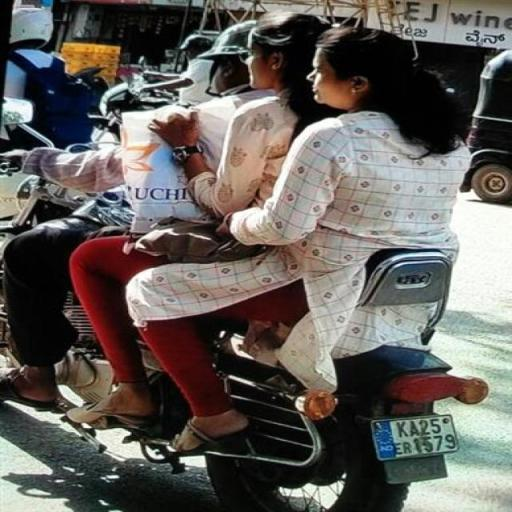tripple riding: (54, 4, 479, 268)
